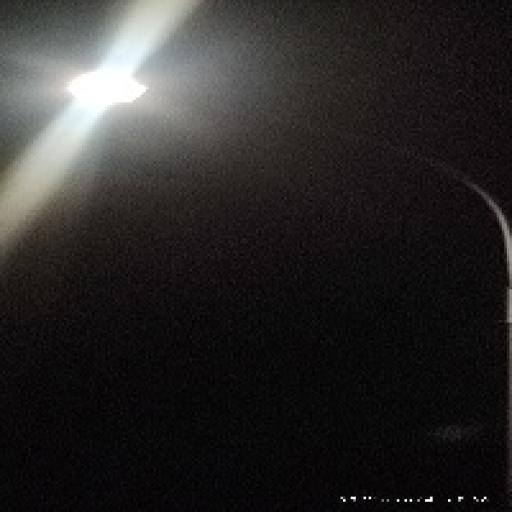Working: (62, 64, 159, 115)
